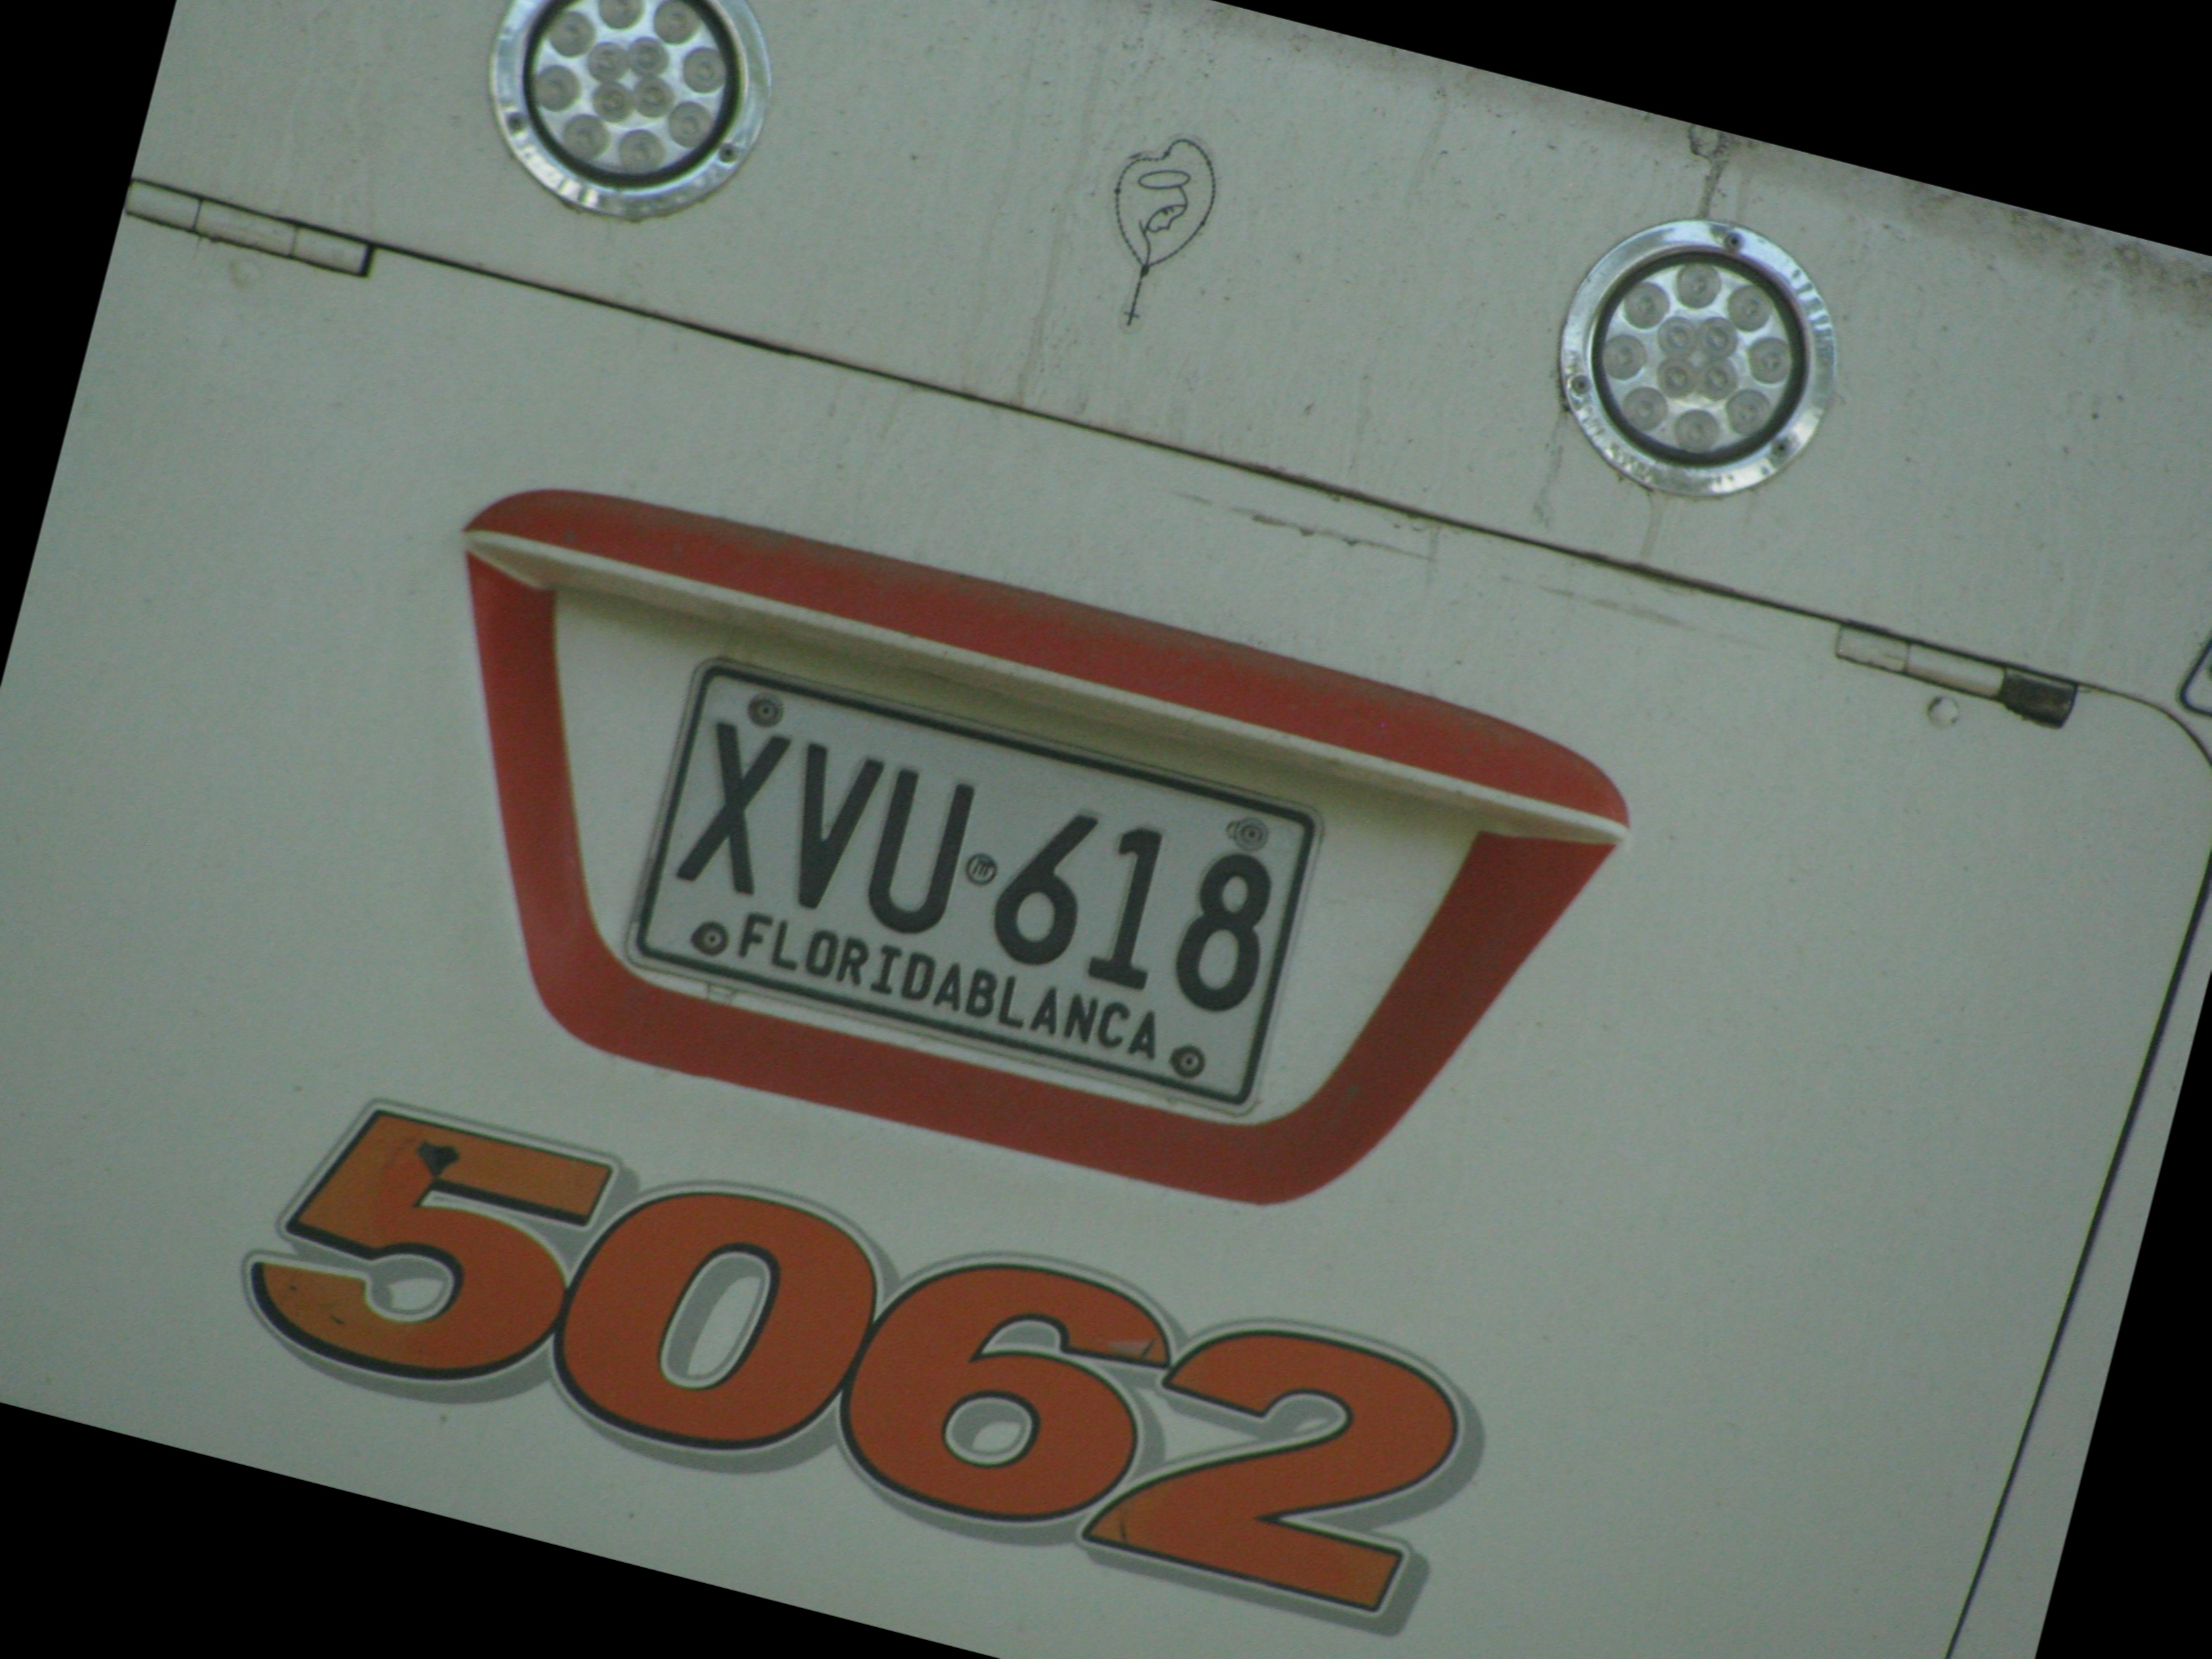placas: (603, 627, 1350, 1143)
